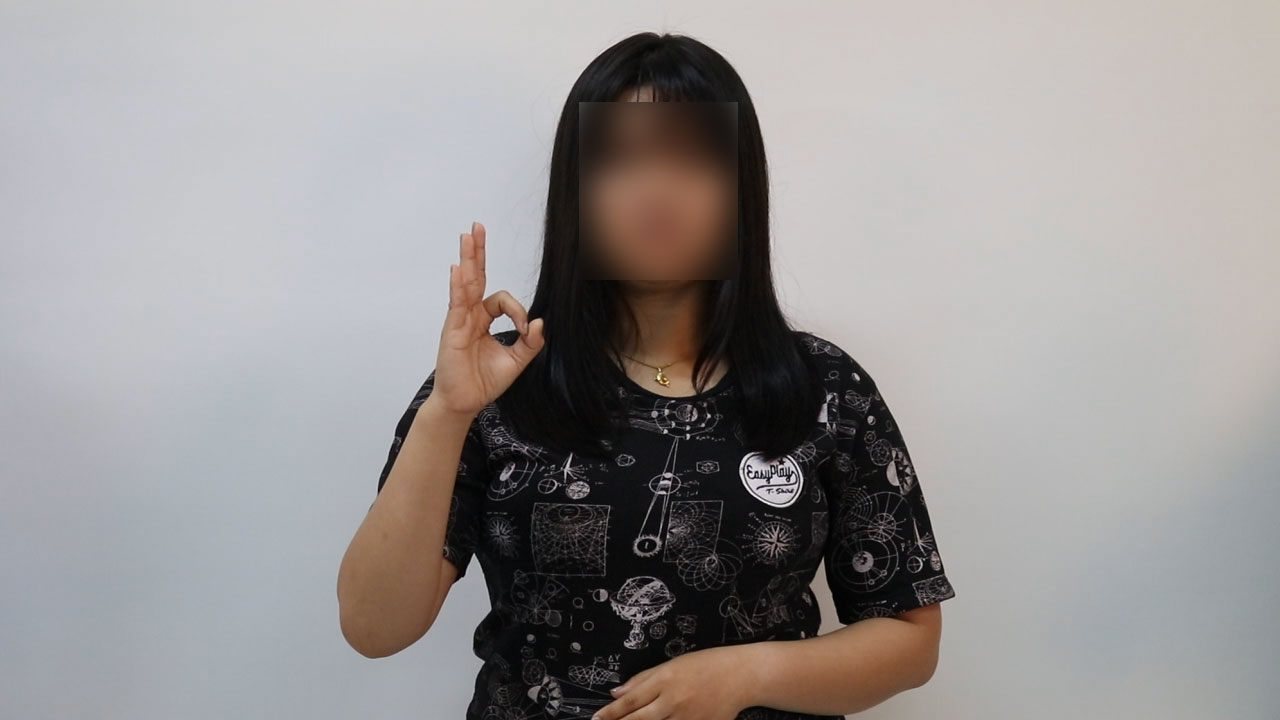for: (406, 210, 550, 426)
